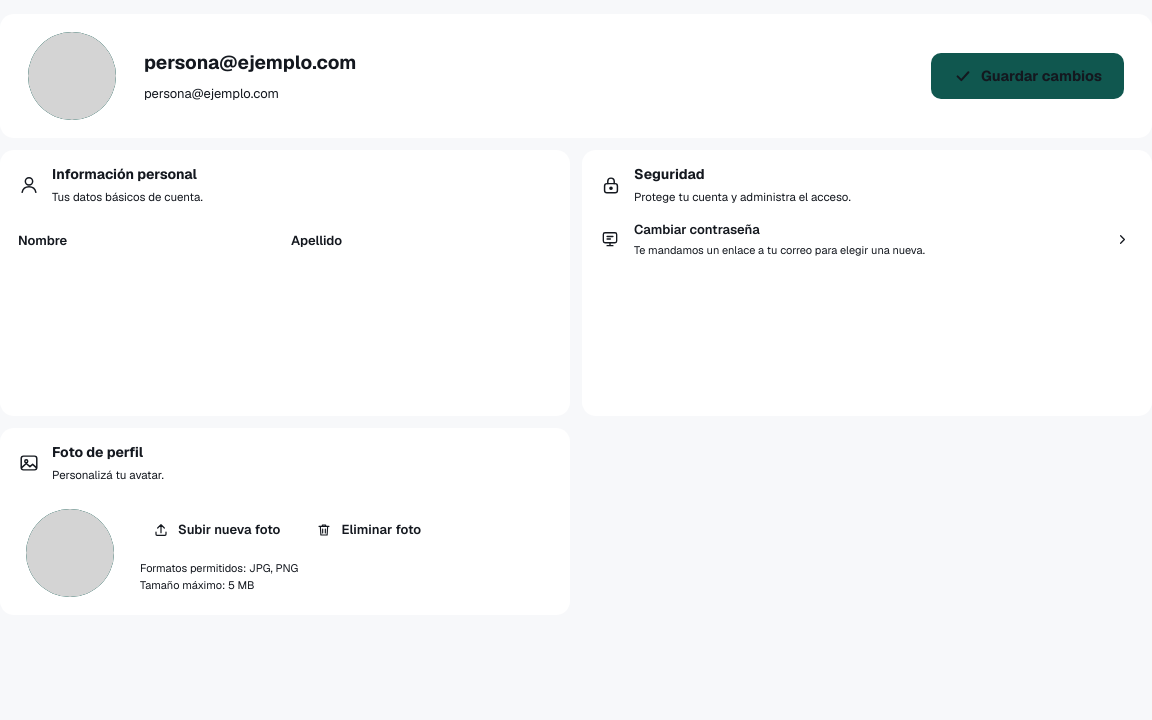
Mi perfil › si falla la limpieza en Storage, refleja que la foto ya se quitó del perfil
Click the button "Eliminar foto" at (369, 530), box [303,512,434,548]
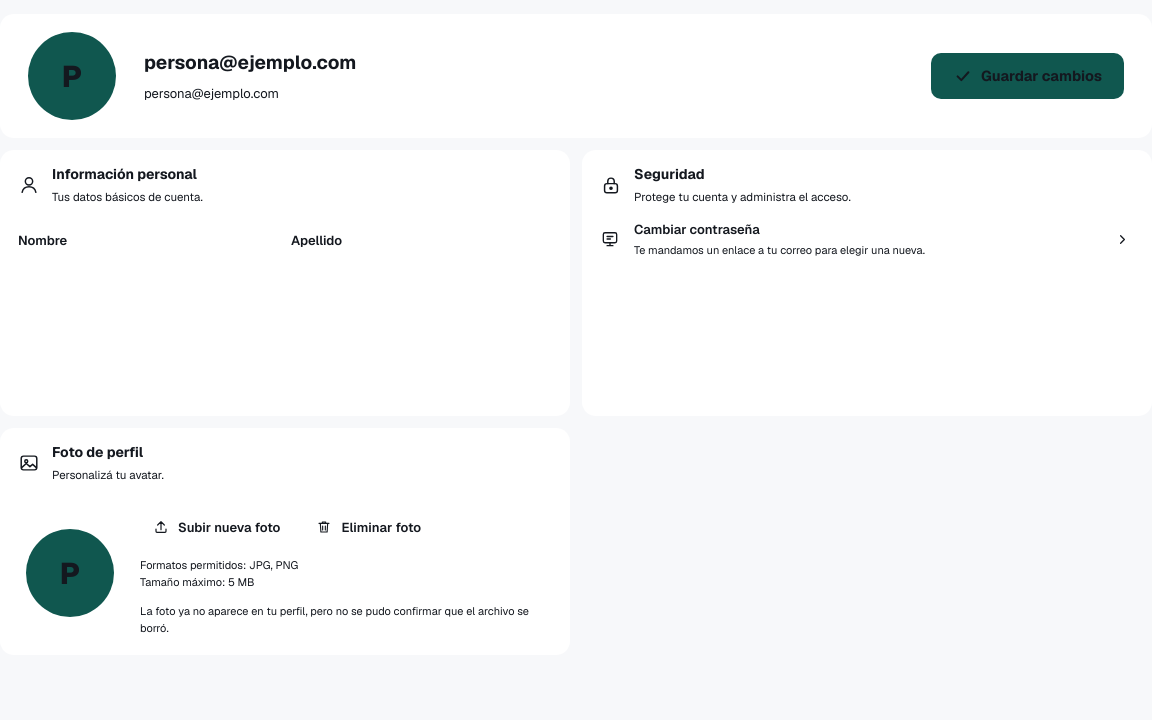
Expected: the message shows "La foto ya no aparece en tu perfil", [140,604,529,635]
